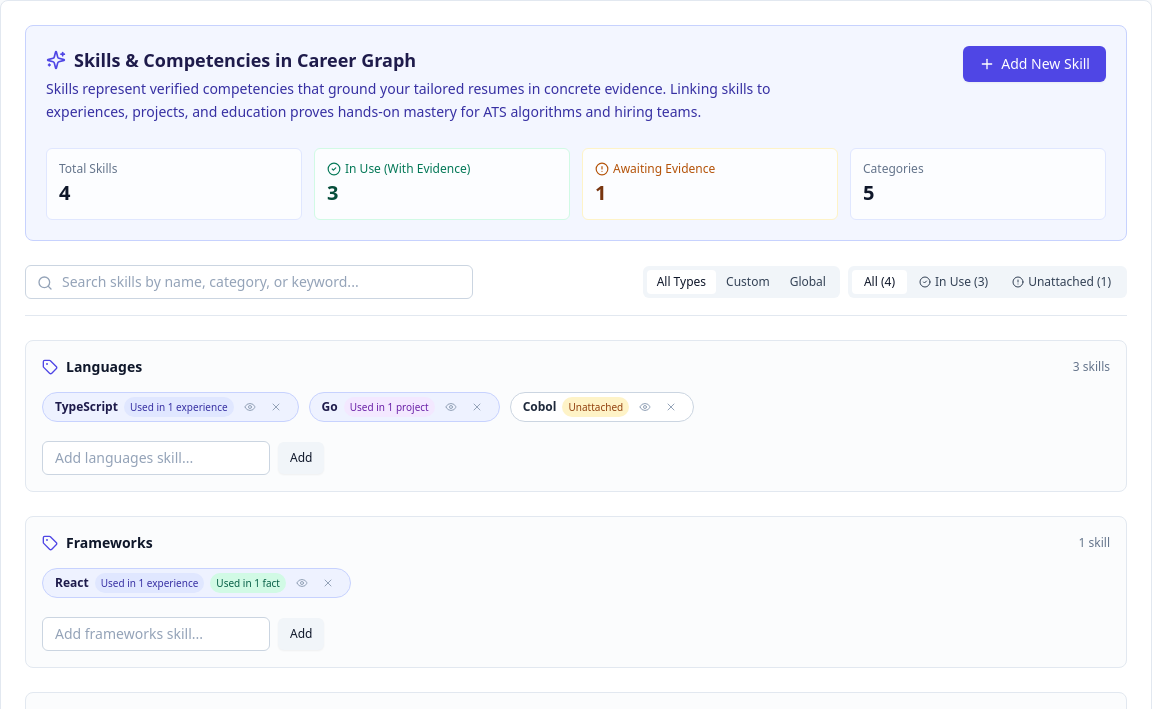
Test case: SkillsManager › filters skills in real time via search input
The width and height of the screenshot is (1152, 709).
Type "Type" into the search field labelled "Search skills by name, category, or keyword..." at (249, 282), box top-left (25, 264), bottom-right (473, 298)
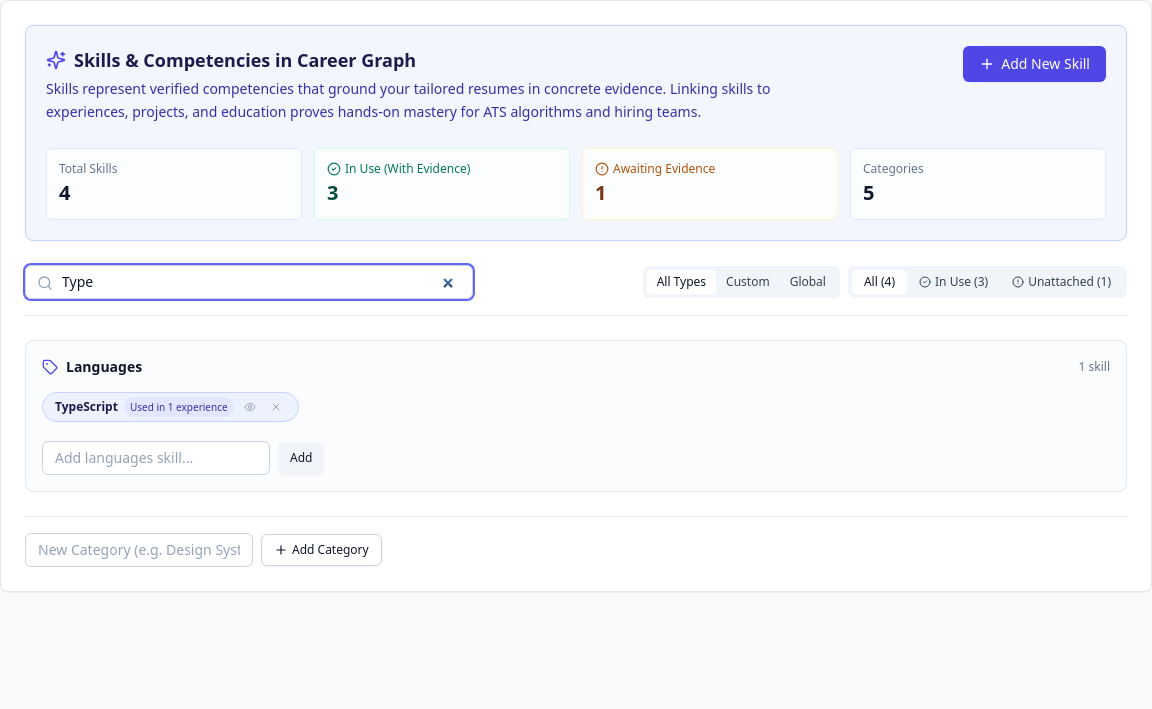
Expected: the text "TypeScript" is shown, top-left (55, 398), bottom-right (118, 414)
Expected: the text "React" is gone
Expected: the text "Cobol" is gone
// Clear search
Clear the search field named "Search skills" at (249, 282), box top-left (25, 264), bottom-right (473, 298)
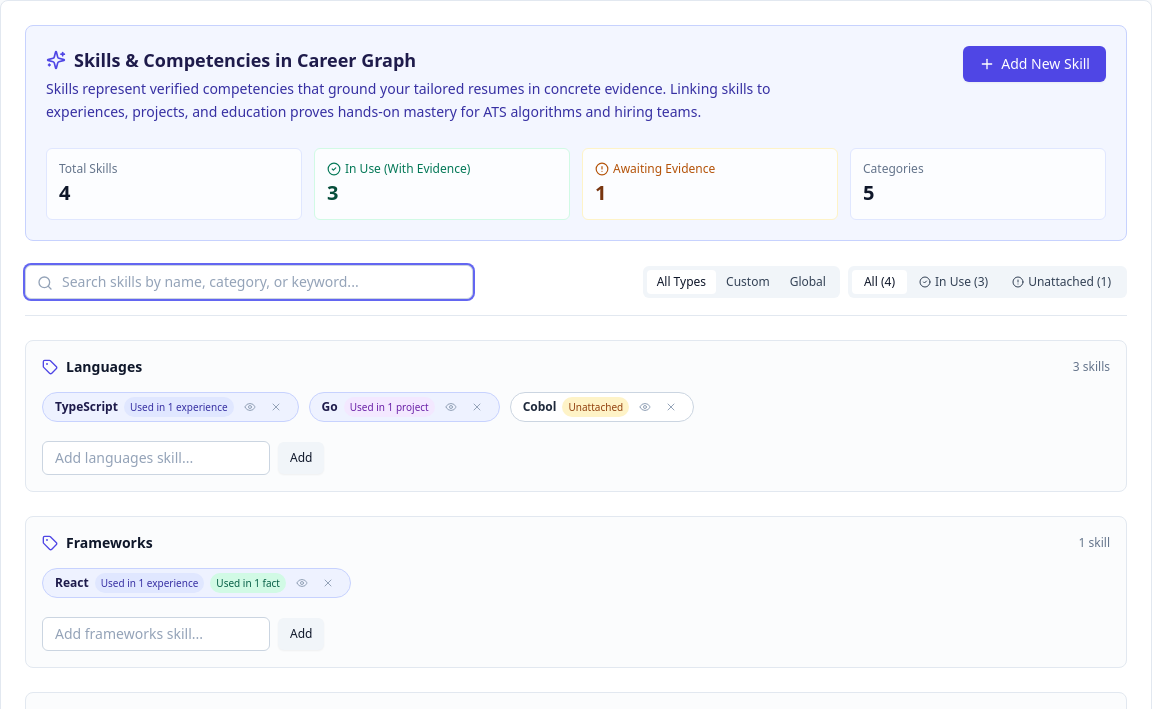
Expected: the text "TypeScript" is shown, top-left (55, 398), bottom-right (118, 414)
Expected: the text "Go" is shown, top-left (322, 398), bottom-right (338, 414)
